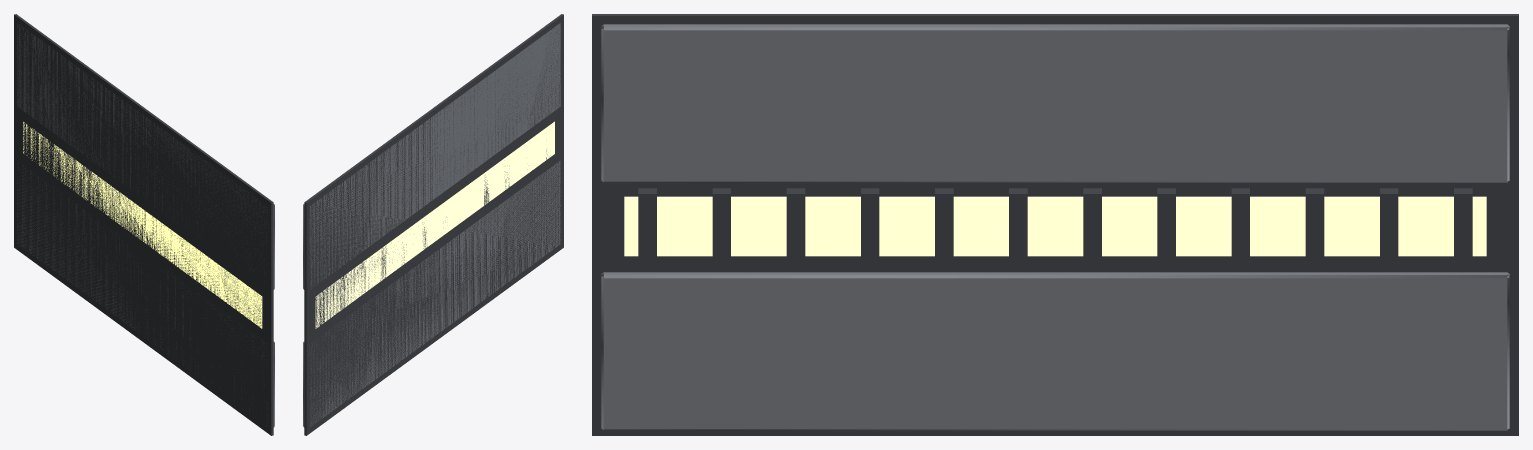
File: SM_H_WallBand.fbx
3 renders of one model, left to right at view 1: azimuth 30°, elevation 25°; view 2: azimuth 150°, elevation 25°; view 3: azimuth 270°, elevation 25°, orthographic. The views are drawn at different scales.
Parts seen in each view (by area): view 1: SM_H_WallBand; view 2: SM_H_WallBand; view 3: SM_H_WallBand.
Boxes of the visible parts, x1,y1,x2,y2 form: SM_H_WallBand: [14, 14, 274, 435]; SM_H_WallBand: [303, 14, 563, 435]; SM_H_WallBand: [592, 14, 1518, 435].
Bounding box in the file's own units: 8 × 400 × 200.
